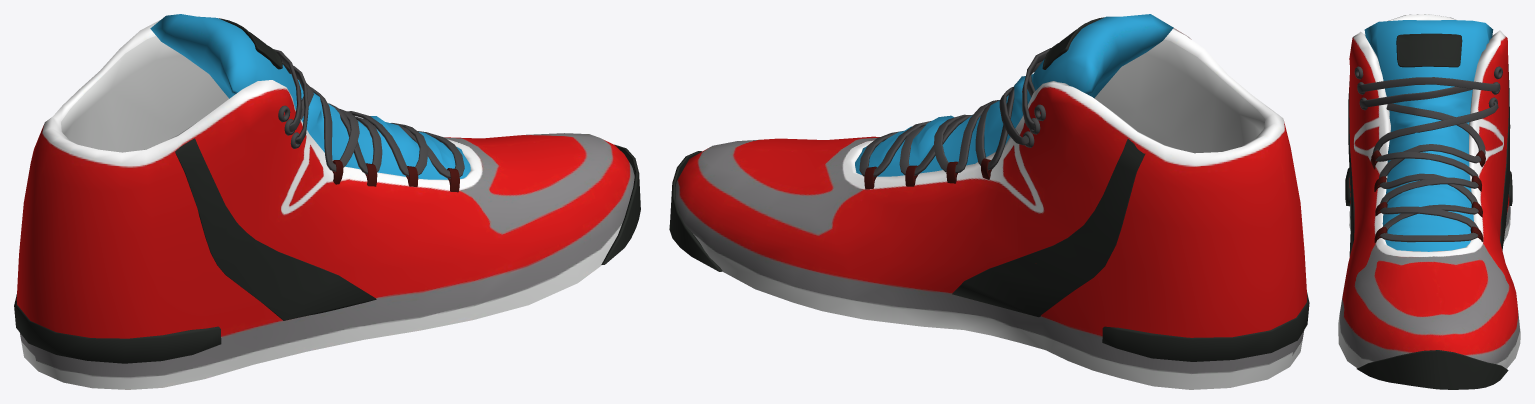
The model's file is sneaker_treasure.fbx.
3 views of the same model, side by side, from view 1: azimuth 30°, elevation 25°; view 2: azimuth 150°, elevation 25°; view 3: azimuth 270°, elevation 25° (orthographic). The views are drawn at different scales.
Parts seen in each view (by area): view 1: root; view 2: root; view 3: root.
Boxes of the visible parts, bbox=[...] form: root: bbox=[14, 14, 640, 389]; root: bbox=[669, 14, 1309, 389]; root: bbox=[1338, 14, 1520, 389].
Size of the model in its own units: 0.512 by 0.2388 by 0.1711.
1 material, 1 textured.
